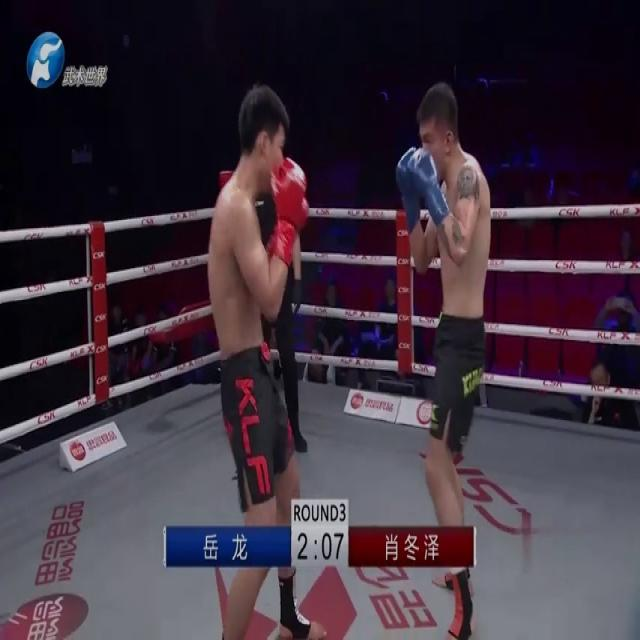fight: (205, 76, 316, 640), (390, 74, 500, 640)
